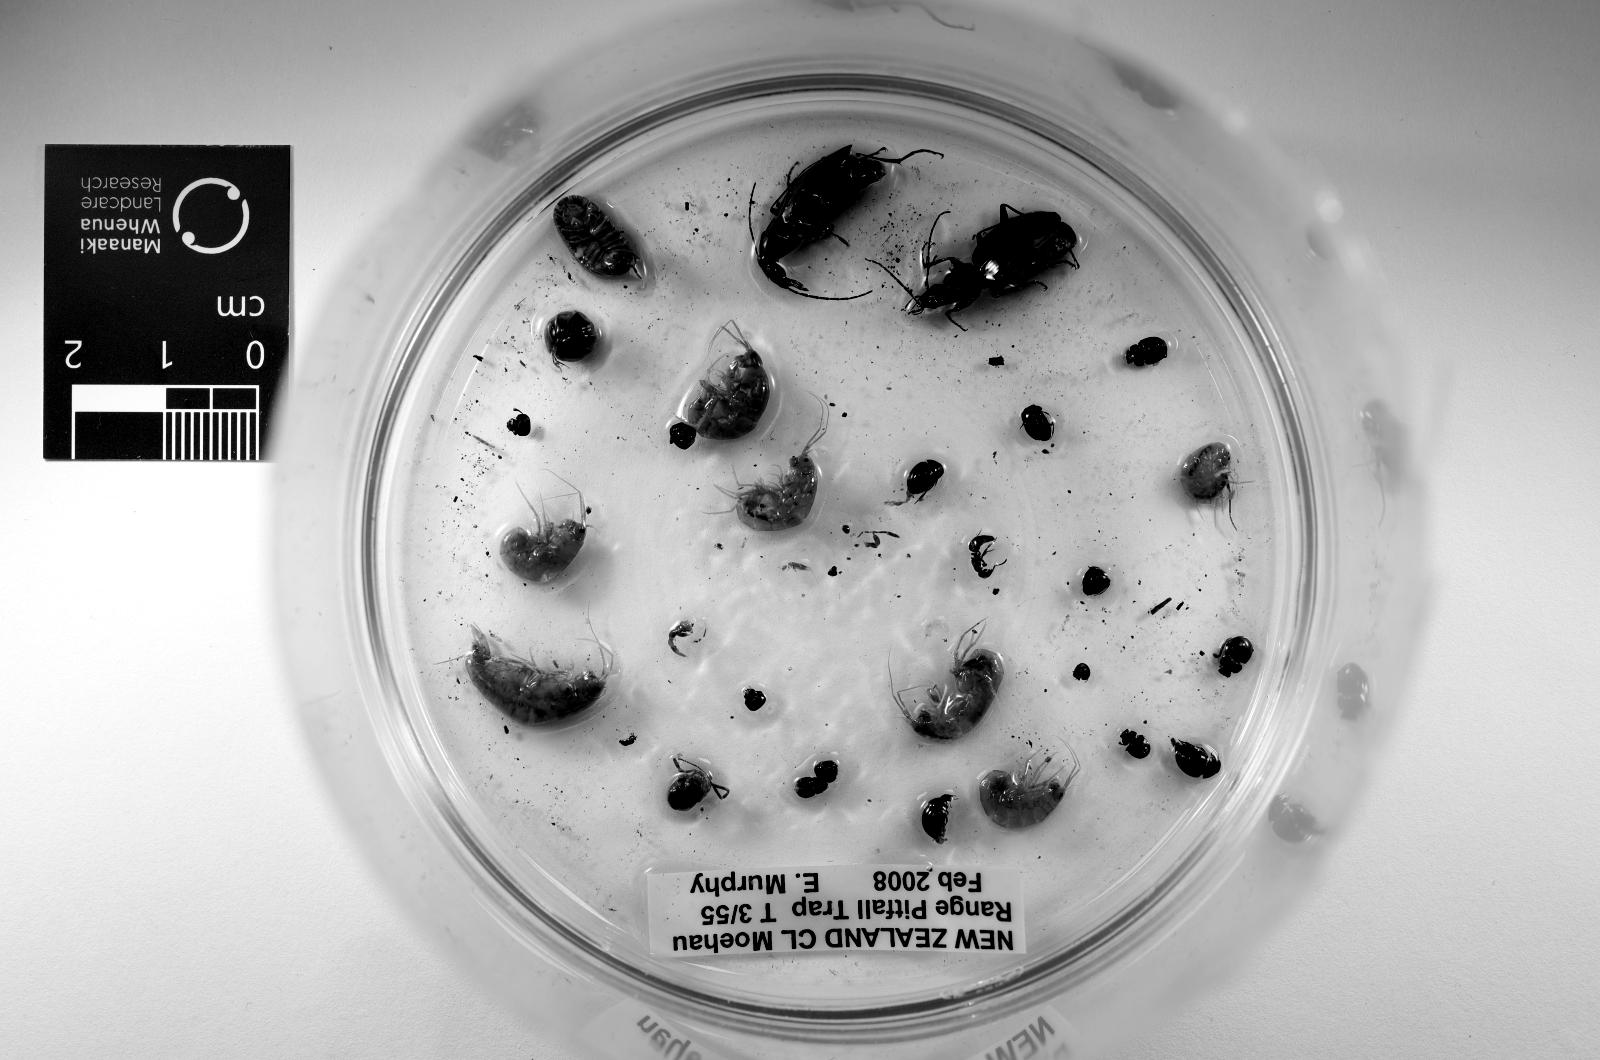amphipoda: (466, 625, 613, 726), (719, 401, 828, 531), (894, 621, 1003, 742), (687, 319, 769, 441), (500, 485, 590, 584), (982, 755, 1078, 829), (1181, 444, 1231, 503)
carabidae: (757, 146, 903, 295), (903, 205, 1078, 319)
coleoptera: (1172, 739, 1222, 780), (1216, 636, 1254, 677), (906, 459, 944, 497), (922, 795, 953, 841), (1022, 403, 1056, 441), (1125, 338, 1168, 367), (1119, 730, 1149, 757), (793, 776, 828, 799)
collembola: (784, 562, 816, 577)
formicidae: (969, 535, 997, 577)
isopoda: (553, 195, 634, 277), (546, 310, 597, 360)
opiliones: (666, 755, 728, 810)
